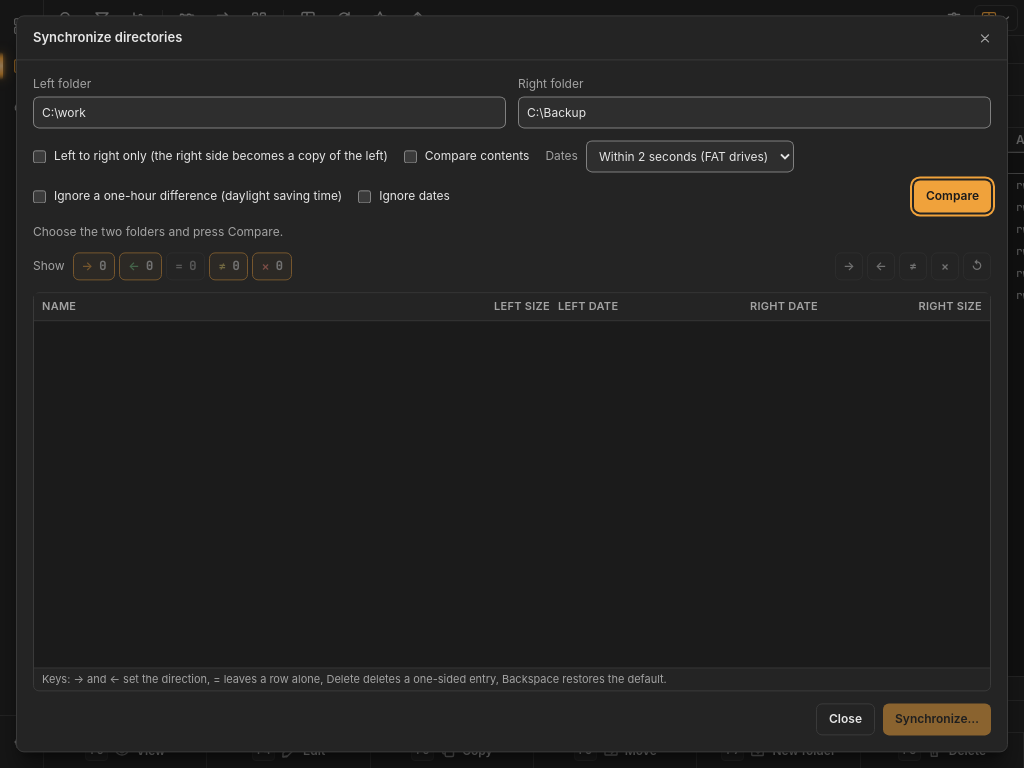
it: synchronize directories › does not start a sync when the table changed after the confirmation
Check: the button with test id "path-left" reads "C:\\work", box [52,100,387,124]
Check: the button with test id "path-right" reads "C:\\Backup", box [544,100,879,124]
Click the button "Compare".
click(952, 196)  # box [914,180,991,212]
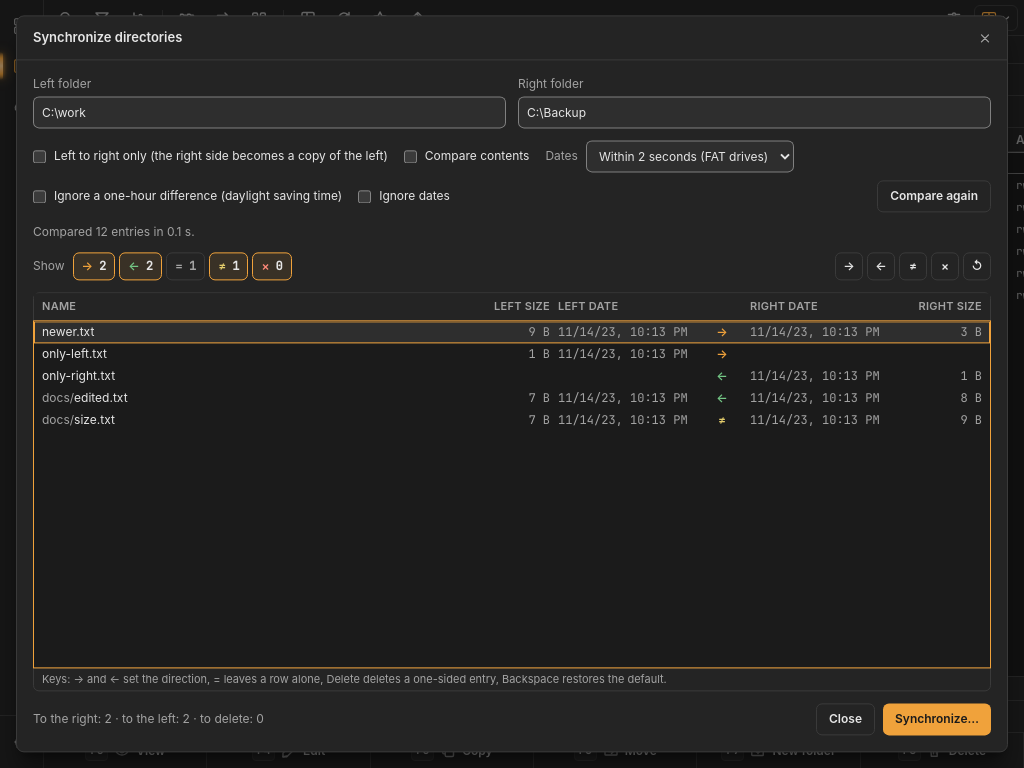
Click the button "Synchronize…".
click(937, 720)  # box [883,704,991,736]
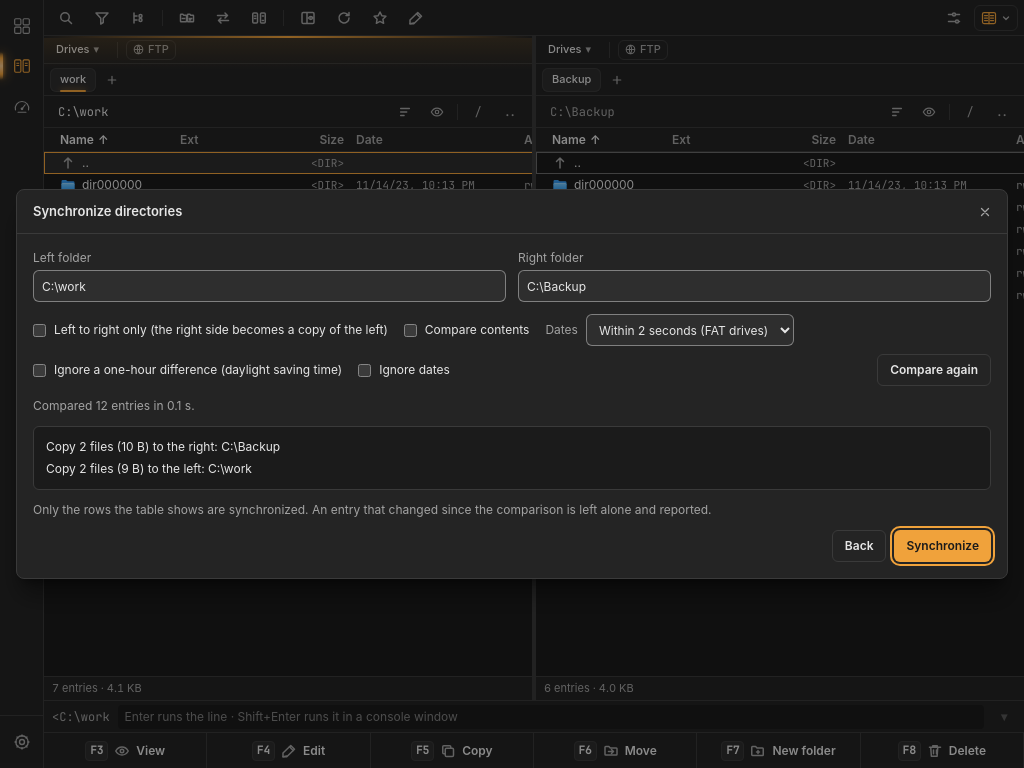
Click the button "Synchronize".
click(943, 546)  # box [894,530,991,562]
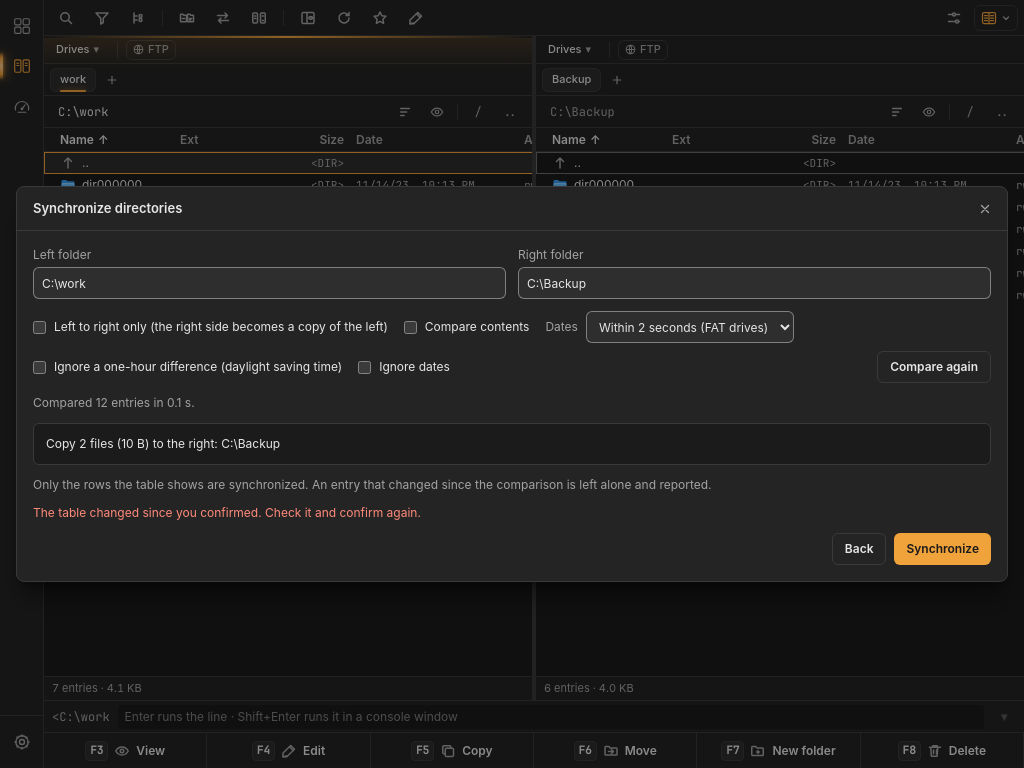
Check: the element with test id "sync-dialog" is shown, box [33,247,991,565]
Check: the message shows "The table changed since you confirmed", box [33,505,421,520]
Check: the element with test id "sync-confirm" no longer shows "to the left", box [33,423,991,565]
